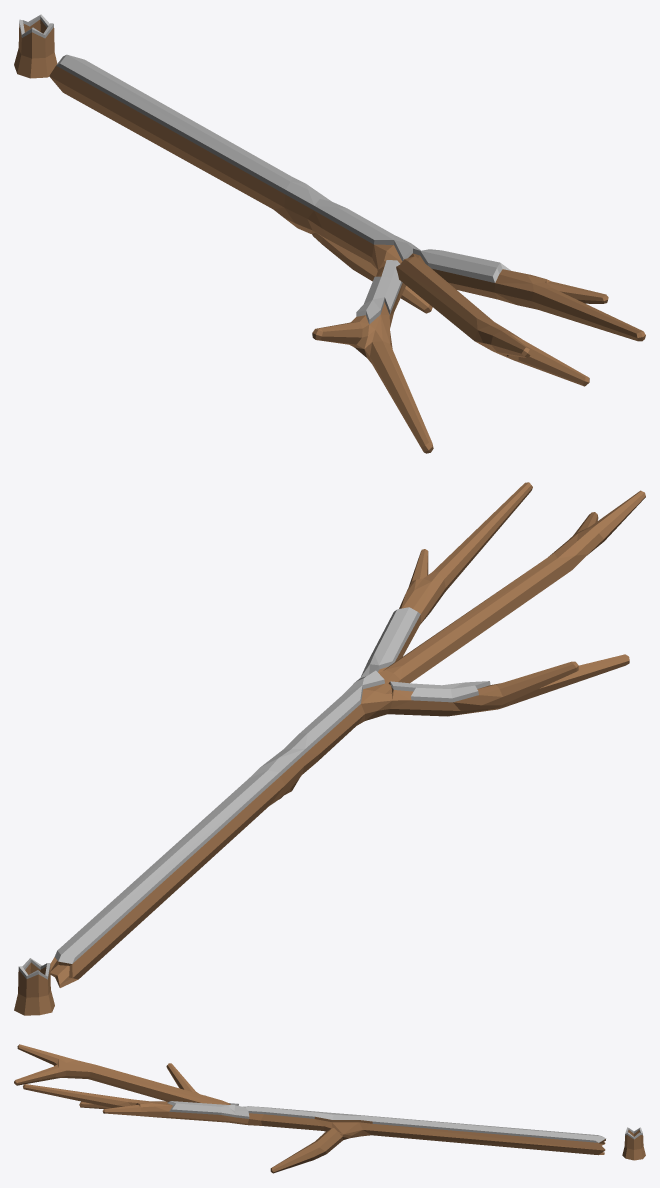
File: Tree_10 Broken Winter.fbx
3 views of the same model, one above another, from view 1: azimuth 30°, elevation 25°; view 2: azimuth 150°, elevation 25°; view 3: azimuth 270°, elevation 25° (orthographic). The views are drawn at different scales.
Visible parts, largest first — view 1: Tree10Broken_mesh.001; view 2: Tree10Broken_mesh.001; view 3: Tree10Broken_mesh.001.
Boxes of the visible parts, box(x1,y1,x2,y2) form: Tree10Broken_mesh.001: box(14, 14, 645, 453); Tree10Broken_mesh.001: box(14, 482, 645, 1015); Tree10Broken_mesh.001: box(14, 1044, 645, 1173).
Size of the model in its own units: 109 by 77.67 by 479.
